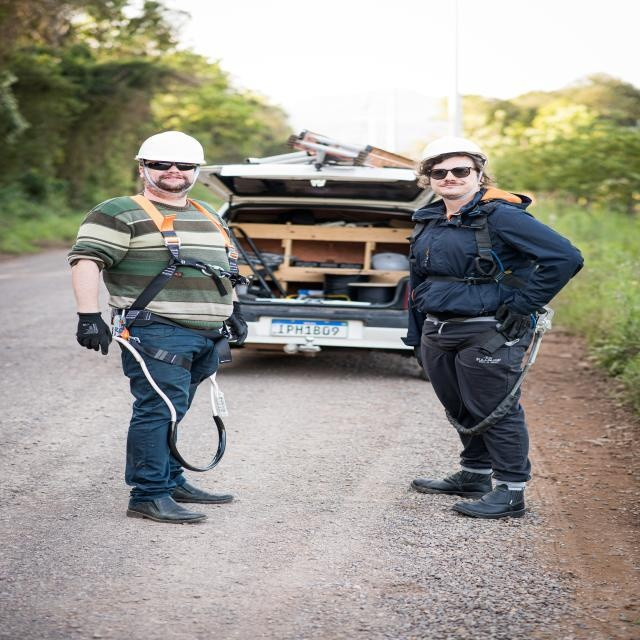Arnes_seguridad: (104, 188, 240, 374), (401, 200, 536, 366)
